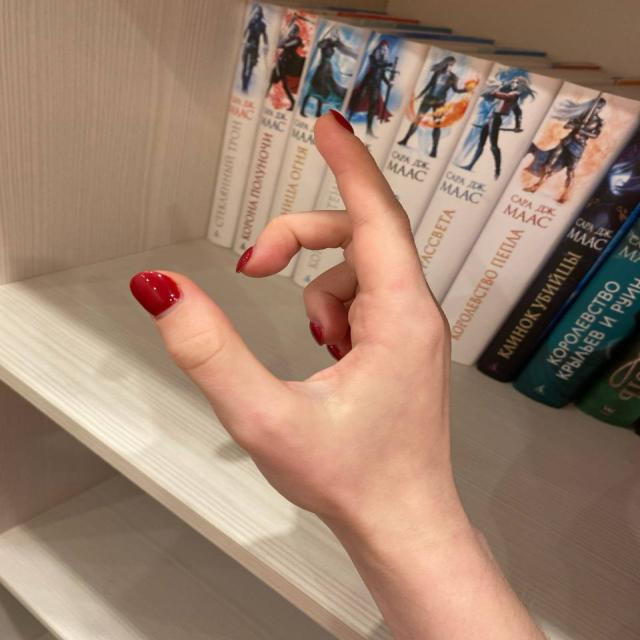b: (114, 84, 482, 474)
